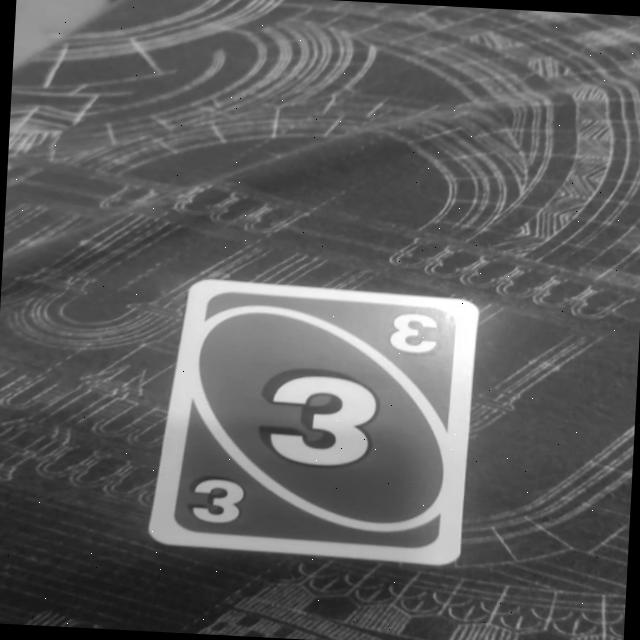card_3: (146, 276, 481, 568)
